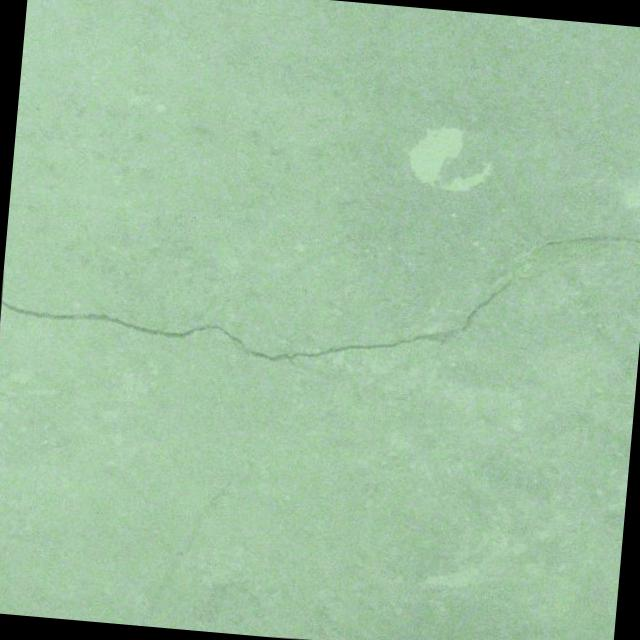crack: (0, 181, 640, 402)
